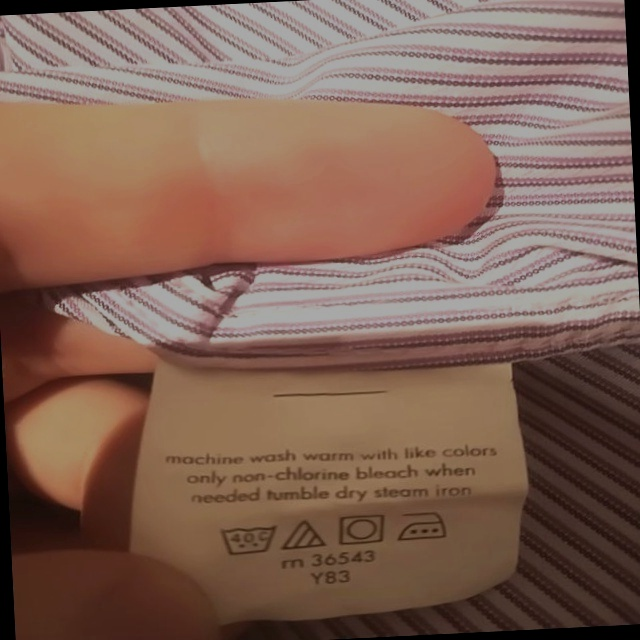40C: (218, 520, 281, 560)
iron_high: (396, 507, 453, 544)
non_chlorine_bleach: (280, 517, 328, 554)
tumble_dry_normal: (337, 513, 390, 548)
